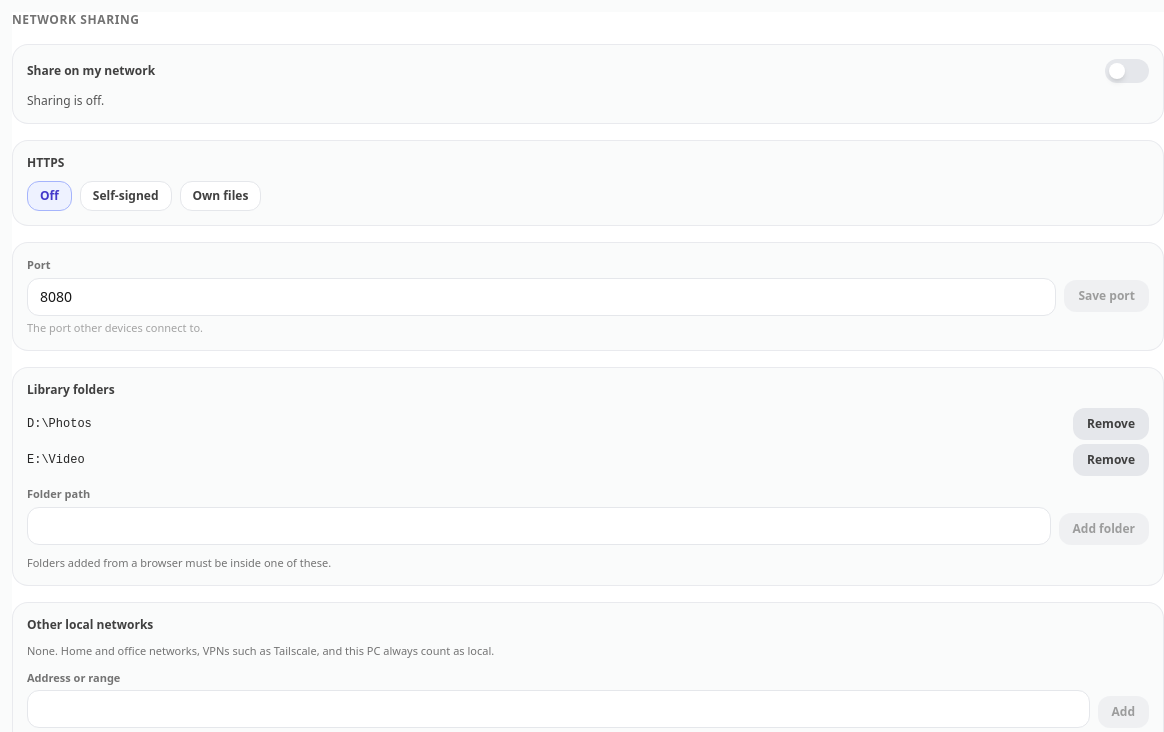
it: SharingSection › the switch › sends enabled: true, then shows the running state and toasts
Click the switch named "Share on my network".
click(1127, 71)  # box [1105,59,1149,83]
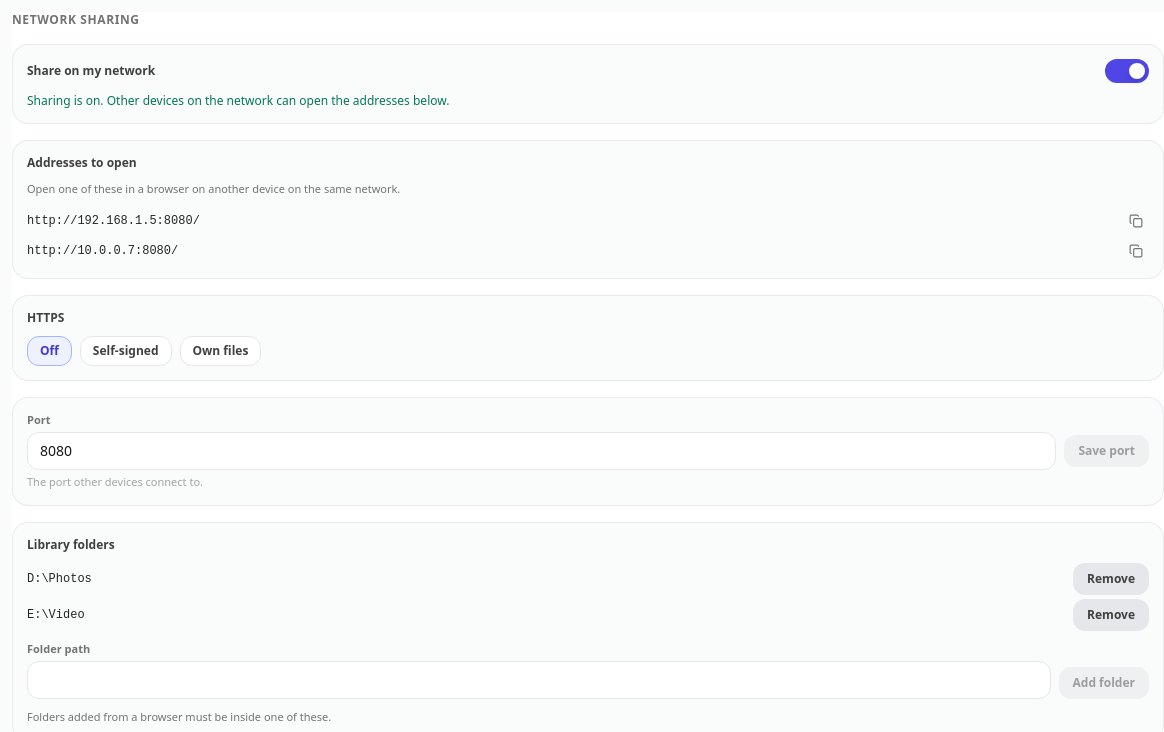
Result: the text "http://192.168.1.5:8080/" is shown at [27,212,200,228]
